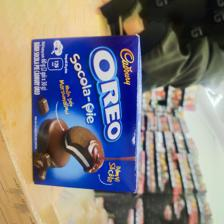Oreo: (28, 33, 144, 194)
